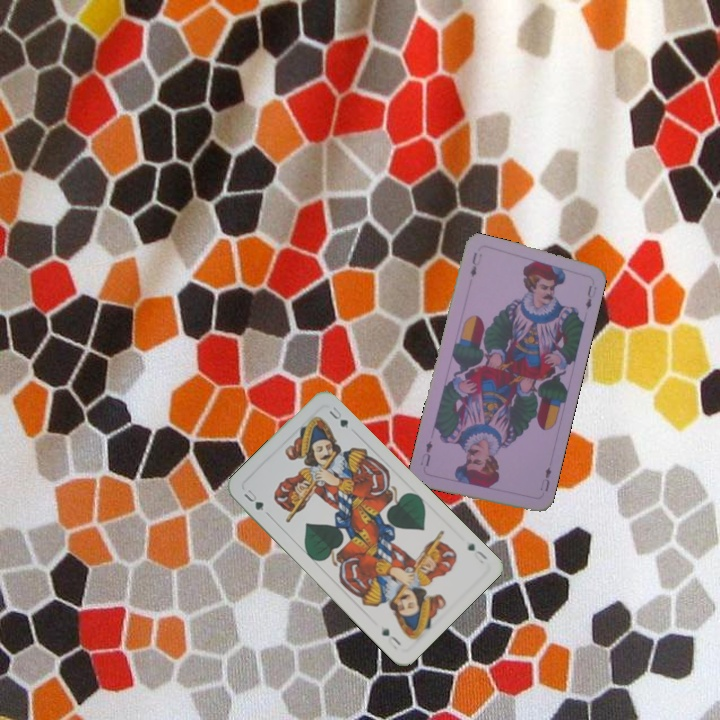EU: (536, 463, 554, 494), (466, 248, 482, 280)
GU: (240, 485, 266, 514), (463, 539, 490, 562)
